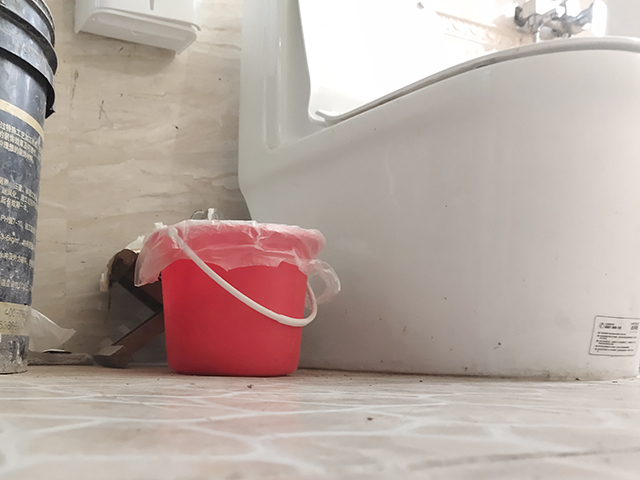closestool: (236, 1, 640, 382)
stool: (93, 247, 165, 369)
trashcan: (144, 218, 326, 378)
